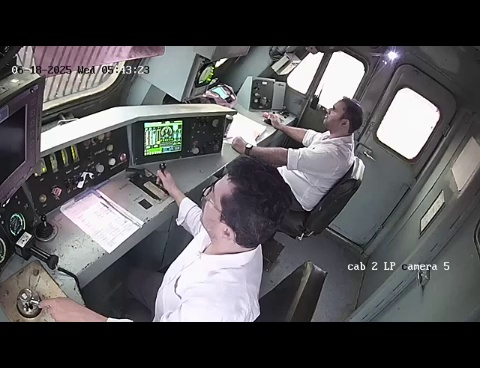brake_applied: (1, 256, 122, 322)
horn_inactive: (28, 210, 67, 244)
